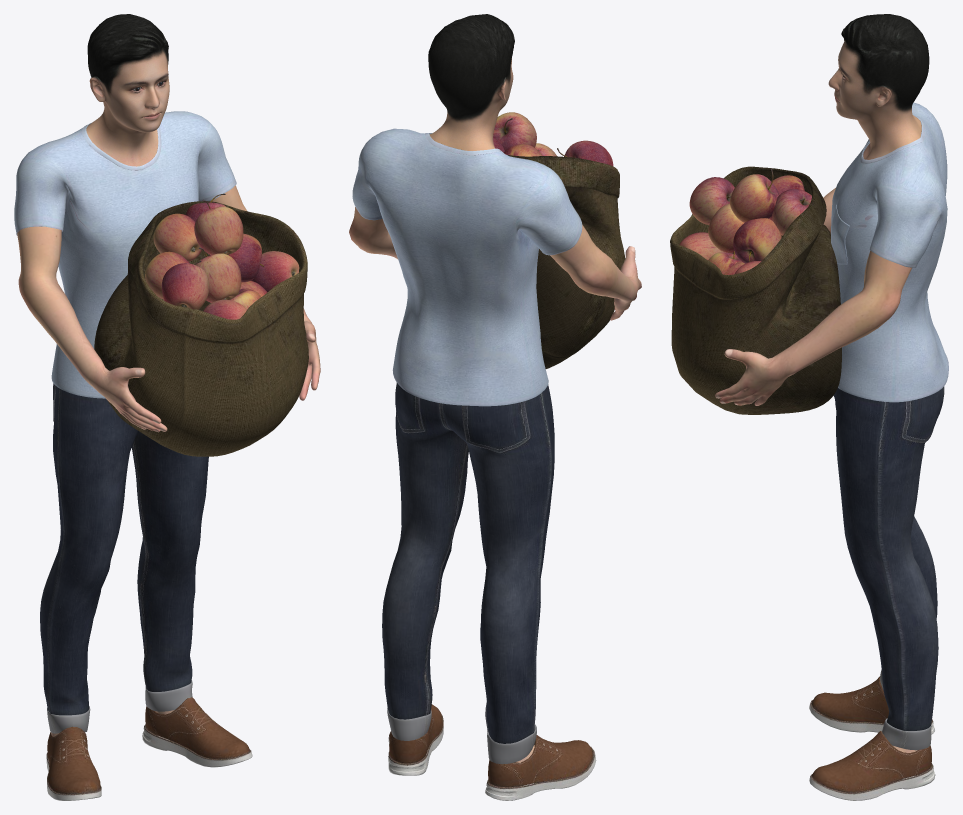
File: vendor.glb
The picture shows the model from 3 angles, left to right: view 1: azimuth 30°, elevation 25°; view 2: azimuth 150°, elevation 25°; view 3: azimuth 270°, elevation 25°; orthographic projection.
Visible parts, largest first — view 1: clothing, Cylinder, Red_Apple.004, Head, Body, shoe_L; view 2: clothing, Cylinder, Head, shoe_L, Body, Red_Apple.004; view 3: clothing, Cylinder, Head, Red_Apple.004, Body, shoe_L.
Part boxes in pixels (x1,y1,x2,y2): clothing: (14, 111, 236, 733); Cylinder: (94, 201, 308, 456); Red_Apple.004: (145, 193, 299, 319); Head: (86, 14, 169, 166); Body: (17, 185, 320, 736); shoe_L: (46, 697, 252, 800); clothing: (352, 128, 582, 764); Cylinder: (507, 155, 625, 368); Head: (428, 14, 514, 150); shoe_L: (388, 704, 596, 800); Body: (349, 207, 641, 763); Red_Apple.004: (493, 112, 613, 165); clothing: (831, 102, 948, 750); Cylinder: (670, 166, 841, 414); Head: (828, 14, 929, 159); Red_Apple.004: (679, 168, 811, 274); Body: (715, 188, 917, 752); shoe_L: (809, 676, 935, 800).
Size of the model in its own units: 0.6229 by 1.79 by 0.613.
9 materials, 8 textured.
